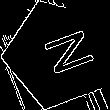N_W: (28, 26, 92, 82)
